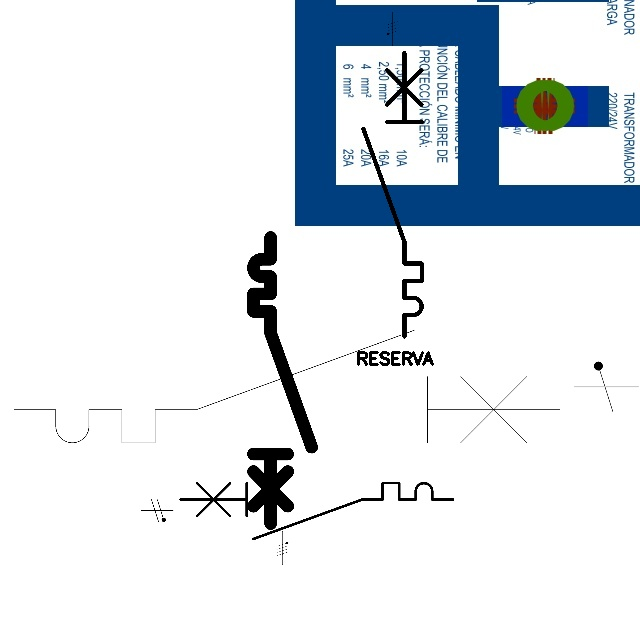interruptor_termomagnetico: (0, 316, 574, 457), (246, 230, 319, 531), (356, 45, 429, 343), (173, 476, 460, 546)
